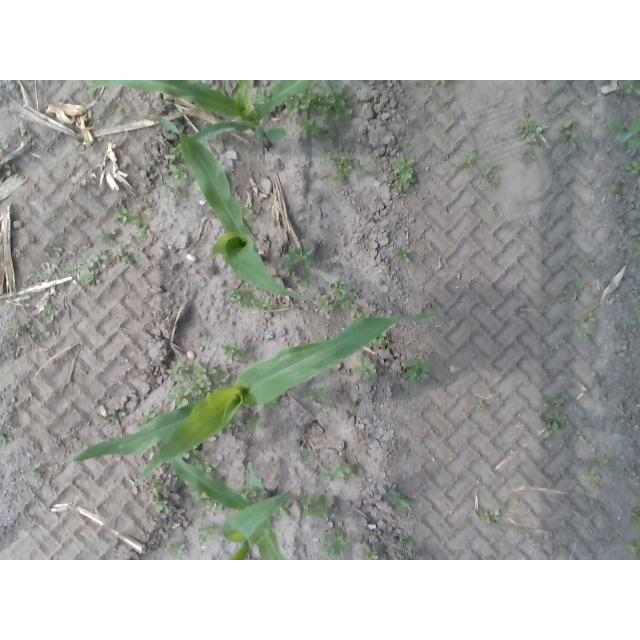Maize: (73, 310, 450, 490), (125, 115, 312, 298), (88, 81, 317, 156), (169, 453, 291, 560)
Weeds: (165, 356, 210, 405), (278, 245, 314, 288), (314, 81, 353, 118), (325, 152, 367, 184), (317, 281, 356, 315), (227, 287, 274, 315), (608, 117, 640, 154), (299, 117, 338, 147), (542, 395, 568, 436), (391, 156, 417, 196), (301, 492, 335, 522), (321, 529, 352, 560), (222, 342, 259, 367), (30, 263, 78, 282), (81, 251, 107, 286), (319, 459, 354, 484), (149, 478, 172, 515), (352, 356, 377, 388), (115, 204, 146, 229), (286, 94, 315, 119), (303, 387, 330, 413), (192, 449, 218, 475), (517, 117, 543, 143), (404, 358, 431, 383), (195, 524, 221, 549), (160, 179, 188, 202), (388, 487, 413, 511), (559, 120, 578, 151), (192, 493, 219, 514), (168, 163, 192, 186), (481, 166, 503, 191), (113, 246, 139, 267), (459, 148, 478, 172), (98, 226, 119, 247), (104, 408, 129, 425), (209, 368, 231, 387), (31, 462, 46, 489), (300, 446, 319, 466), (43, 302, 62, 322), (250, 87, 271, 105), (165, 540, 187, 557), (616, 161, 640, 176), (236, 485, 258, 500), (247, 415, 266, 432), (520, 148, 537, 167), (45, 244, 66, 259), (10, 323, 27, 341), (570, 276, 591, 290), (595, 452, 612, 469), (580, 327, 596, 345), (629, 504, 640, 530), (626, 538, 640, 558), (132, 228, 153, 241), (620, 80, 637, 96), (483, 508, 501, 523), (583, 467, 602, 481), (574, 313, 598, 324), (556, 291, 579, 302), (241, 201, 255, 219), (362, 548, 381, 561), (617, 466, 636, 479), (349, 303, 363, 320), (24, 322, 37, 340), (40, 324, 54, 340), (2, 163, 18, 177), (377, 333, 392, 347), (263, 401, 281, 412), (572, 429, 586, 443), (395, 248, 411, 260), (609, 184, 624, 196), (402, 537, 415, 550), (140, 413, 156, 423), (473, 398, 485, 411), (0, 433, 10, 447), (553, 104, 565, 115), (397, 553, 415, 560), (230, 418, 242, 428), (0, 141, 8, 155), (591, 483, 602, 493), (70, 433, 79, 444), (435, 80, 447, 88), (560, 545, 569, 555), (74, 138, 85, 146), (358, 469, 367, 478), (633, 245, 640, 256), (60, 284, 69, 292), (348, 401, 358, 408), (633, 313, 640, 323), (588, 261, 596, 268), (249, 81, 256, 88)
